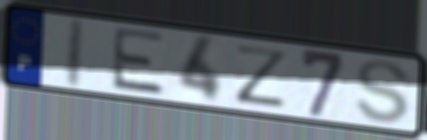4: (174, 33, 225, 106)
7: (300, 45, 347, 120)
E: (109, 25, 168, 98)
I: (61, 15, 88, 91)
S: (353, 58, 414, 126)
Z: (232, 43, 292, 110)
